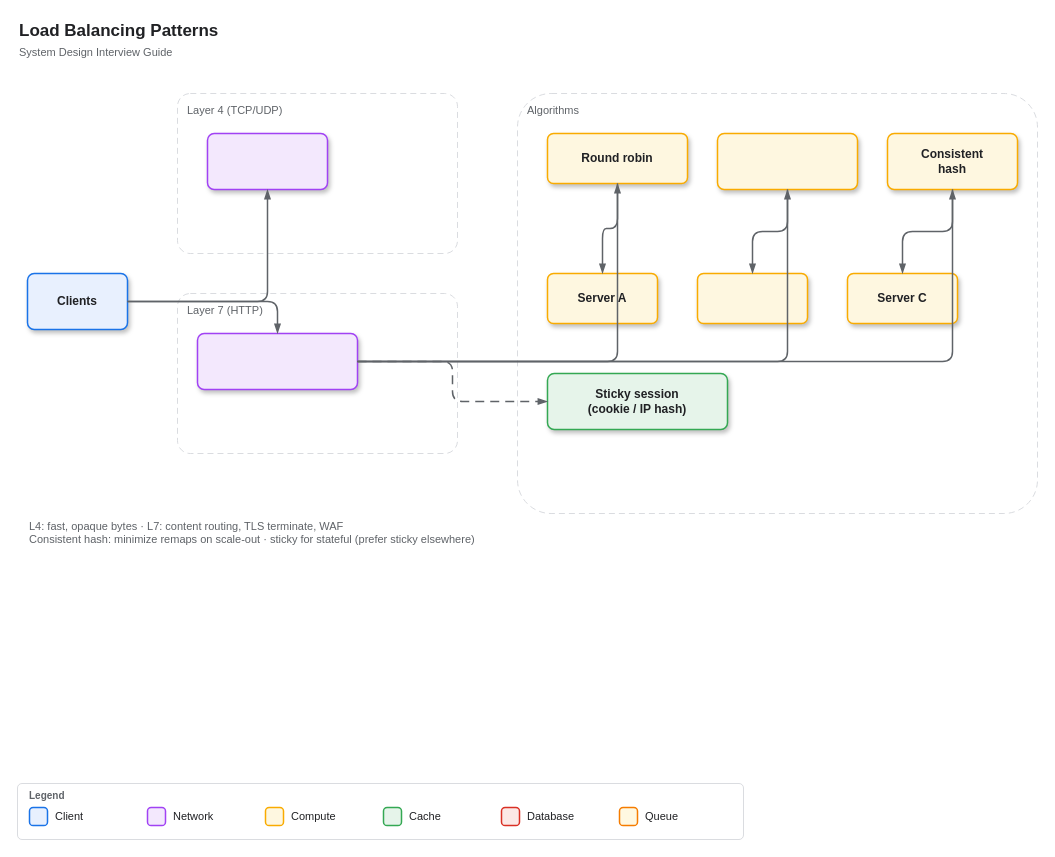
This 1055x857 diagram has some shape labels left out. Each missing label, with the centre of its shape:
"L4 LB 5-tuple" goes at point (268, 162).
"L7 LB path / host / header" goes at point (278, 362).
"Least connections" goes at point (788, 162).
"Server B" goes at point (753, 299).
